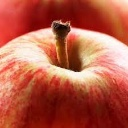apple: (1, 21, 128, 128)
